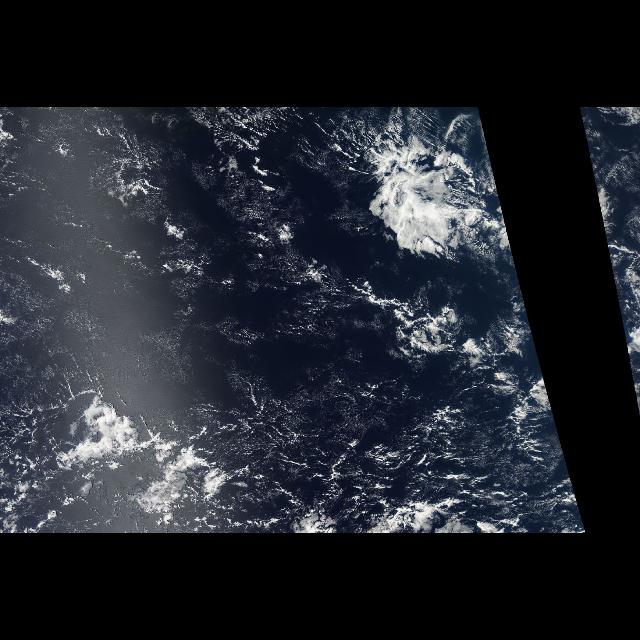Gravel: (14, 132, 532, 504)
